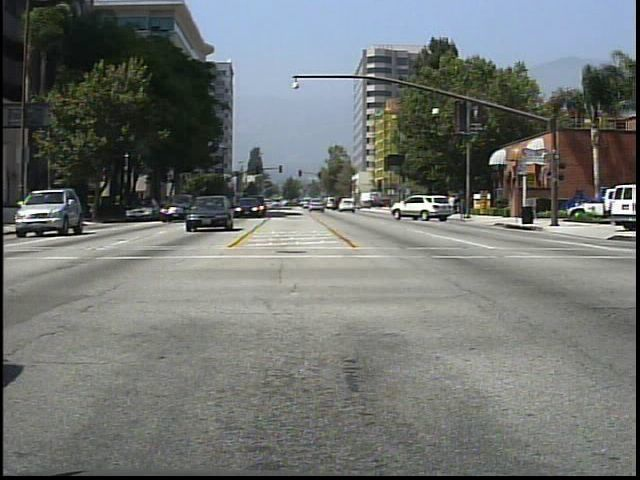person: (446, 188, 461, 220), (423, 189, 440, 216)
